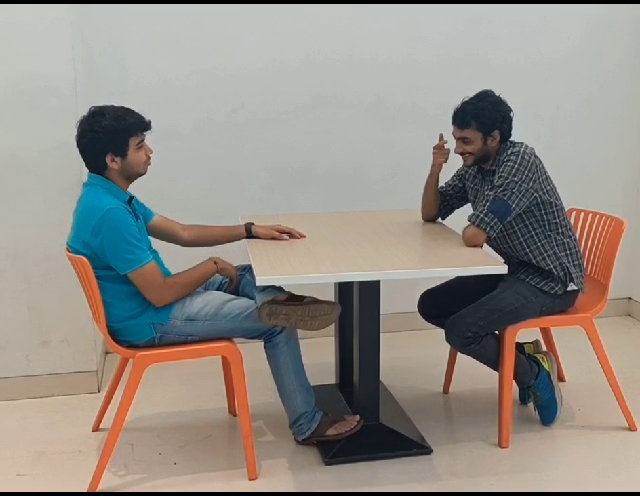person: (72, 98, 161, 182), (438, 87, 523, 170)
